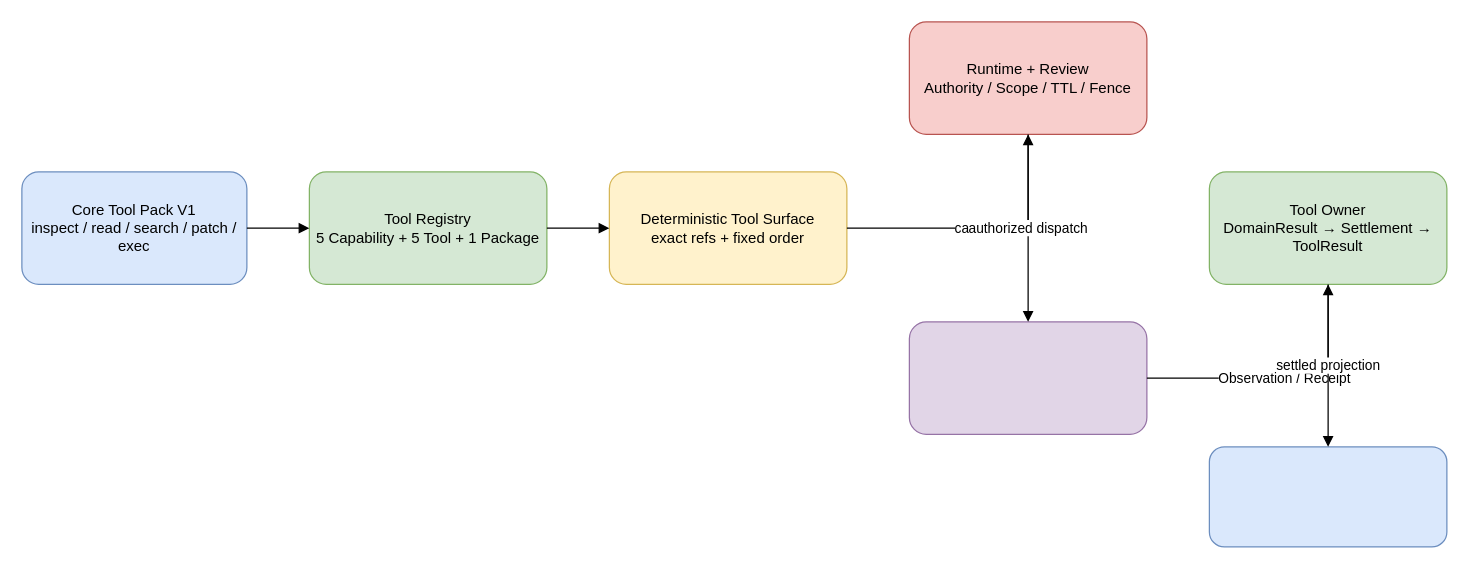
This 1469x569 diagram has some shape labels left out. Here are the shapes that lost their labels. From the top down, the box of each, then its label:
(908, 321, 1147, 434): Sandbox actual point workspace / process enforcement
(1208, 446, 1447, 547): Settled Tool Result Projection consumer-neutral exact refs
